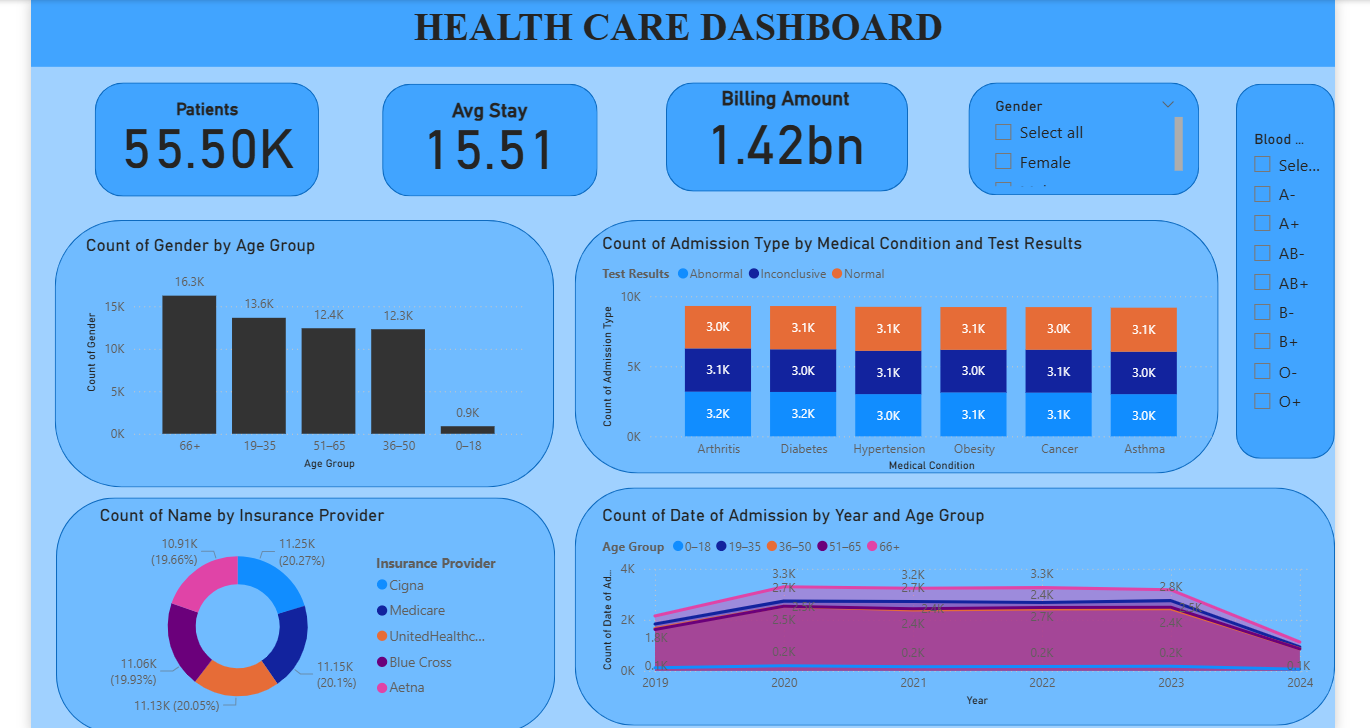

The page's visual inventory and layout, read from the dashboard file:
{"tool":"powerbi","page":{"name":"Page 2","canvas":[1280,720],"ordinal":1},"visuals":[{"type":"textbox","box":[0,0,1280,65.9],"z":0},{"type":"shape","box":[23.6,216.4,490.1,262.5],"z":1000},{"type":"columnChart","fields":{"Category":["healthcare_dataset.Age Group"],"Y":["CountNonNull(healthcare_dataset.Gender)"]},"box":[48.5,230.1,440.4,235.1],"z":2000},{"type":"shape","box":[24,488,490,232],"z":3000},{"type":"donutChart","fields":{"Category":["healthcare_dataset.Insurance Provider"],"Y":["CountNonNull(healthcare_dataset.Name)"]},"box":[62.2,495.1,413,217.7],"z":4000},{"type":"shape","box":[533.7,216.4,631.9,248.8],"z":5000},{"type":"columnChart","fields":{"Category":["healthcare_dataset.Medical Condition"],"Y":["CountNonNull(healthcare_dataset.Admission Type)"],"Series":["healthcare_dataset.Test Results"]},"box":[556,227.6,609.5,240.1],"z":6000},{"type":"shape","box":[533.7,478.9,746.4,233.9],"z":7000},{"type":"areaChart","fields":{"Category":["healthcare_dataset.Date of Admission.Variation.Date Hierarchy.Year","healthcare_dataset.Date of Admission.Variation.Date Hierarchy.Quarter","healthcare_dataset.Date of Admission.Variation.Date Hierarchy.Month","healthcare_dataset.Date of Admission.Variation.Date Hierarchy.Day"],"Y":["CountNonNull(healthcare_dataset.Date of Admission)"],"Series":["healthcare_dataset.Age Group"]},"box":[556,495.1,707.8,202.8],"z":8000},{"type":"shape","box":[62.2,80.9,220.2,112],"z":9000},{"type":"card","title":"Patients","fields":{"Values":["CountNonNull(healthcare_dataset.Name)"]},"box":[77.1,97,191.6,84.6],"z":10000},{"type":"shape","box":[344.6,82.1,211.5,110.7],"z":11000},{"type":"card","title":"Avg Stay","fields":{"Values":["Avg(healthcare_dataset.Length Of Stay)"]},"box":[357,97,186.6,84.6],"z":12000},{"type":"shape","box":[623.2,80.9,237.6,107],"z":13000},{"type":"card","title":"Billing Amount","fields":{"Values":["Sum(healthcare_dataset.Billing Amount)"]},"box":[631.9,85.8,217.7,95.8],"z":14000},{"type":"shape","box":[920.5,80.9,226.4,110.7],"z":15000},{"type":"slicer","fields":{"Values":["healthcare_dataset.Gender"]},"box":[934.2,90.8,201.5,97],"z":16000},{"type":"shape","box":[1183,82.1,97,368.2],"z":17000},{"type":"slicer","fields":{"Values":["healthcare_dataset.Blood Type"]},"box":[1187.7,122.7,89.6,343.6],"z":18000}]}

Visuals, with their boxes on the page's 1280x720 design canvas (x1, y1, x2, y2). These are canvas units, not pixel positions in the 1370x728 screenshot, which may show the page scaled, cropped or inside an application window:
textbox: bbox(0, 0, 1280, 66)
shape: bbox(24, 216, 514, 479)
columnChart - healthcare_dataset.Age Group x CountNonNull(healthcare_dataset.Gender): bbox(48, 230, 489, 465)
shape: bbox(24, 488, 514, 720)
donutChart - healthcare_dataset.Insurance Provider x CountNonNull(healthcare_dataset.Name): bbox(62, 495, 475, 713)
shape: bbox(534, 216, 1166, 465)
columnChart - healthcare_dataset.Medical Condition x CountNonNull(healthcare_dataset.Admission Type): bbox(556, 228, 1166, 468)
shape: bbox(534, 479, 1280, 713)
areaChart - healthcare_dataset.Date of Admission.Variation.Date Hierarchy.Year x healthcare_dataset.Date of Admission.Variation.Date Hierarchy.Quarter: bbox(556, 495, 1264, 698)
shape: bbox(62, 81, 282, 193)
"Patients" card: bbox(77, 97, 269, 182)
shape: bbox(345, 82, 556, 193)
"Avg Stay" card: bbox(357, 97, 544, 182)
shape: bbox(623, 81, 861, 188)
"Billing Amount" card: bbox(632, 86, 850, 182)
shape: bbox(920, 81, 1147, 192)
slicer - healthcare_dataset.Gender: bbox(934, 91, 1136, 188)
shape: bbox(1183, 82, 1280, 450)
slicer - healthcare_dataset.Blood Type: bbox(1188, 123, 1277, 466)
